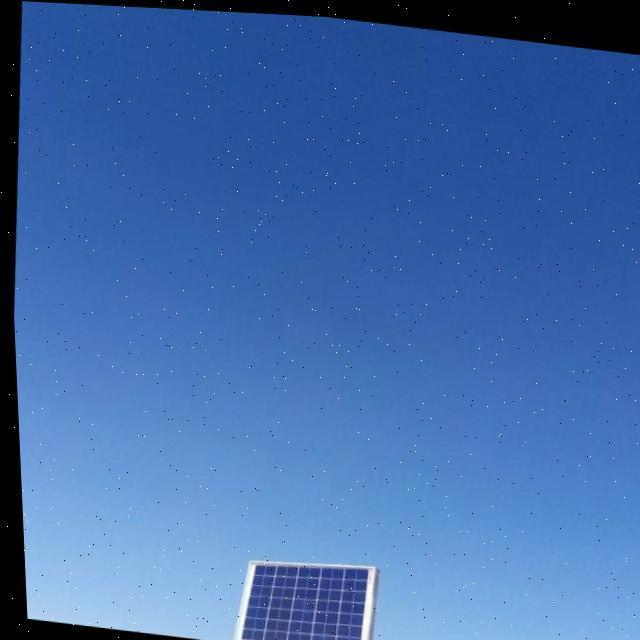Normal Solar Panel: (225, 547, 372, 640)
